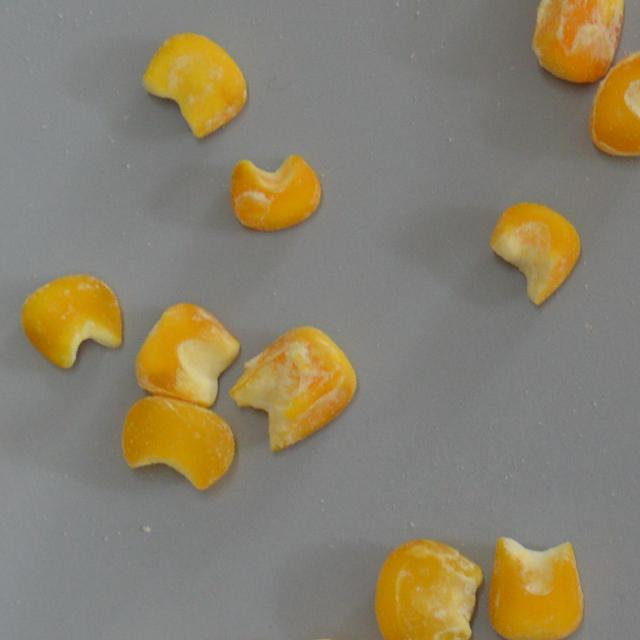pelicula: (228, 324, 358, 453), (140, 29, 246, 140), (374, 536, 482, 640), (133, 303, 240, 407), (120, 394, 234, 490), (488, 536, 584, 640), (19, 273, 124, 368), (487, 202, 580, 306), (530, 0, 624, 84), (230, 154, 322, 230), (592, 50, 640, 158)
